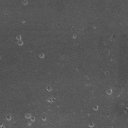corrosion: (38, 51, 47, 60), (105, 87, 113, 96), (45, 84, 52, 92), (5, 113, 12, 121), (29, 115, 36, 123), (17, 40, 24, 47), (15, 34, 22, 40), (41, 115, 47, 122)
